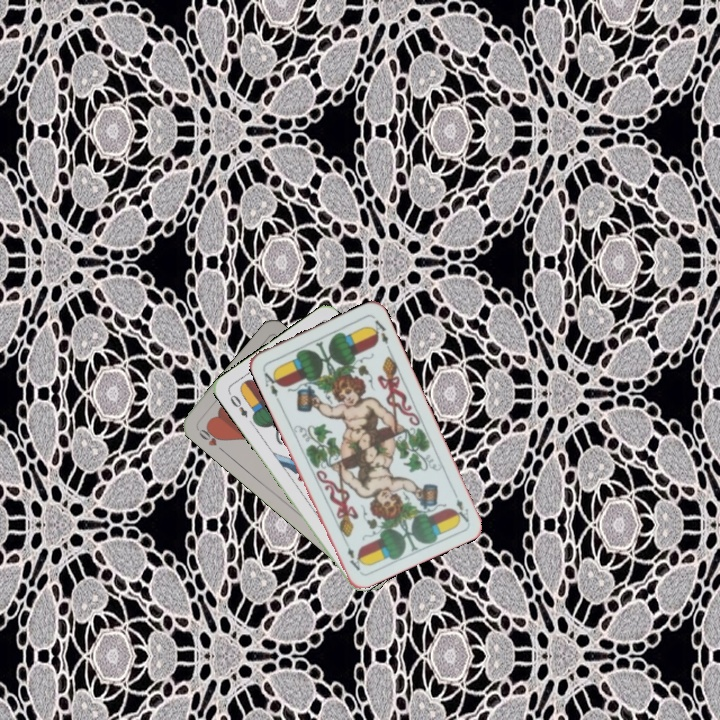EA: (259, 365, 283, 404), (449, 486, 471, 525)
EO: (224, 389, 250, 420)
HO: (193, 422, 227, 455)
